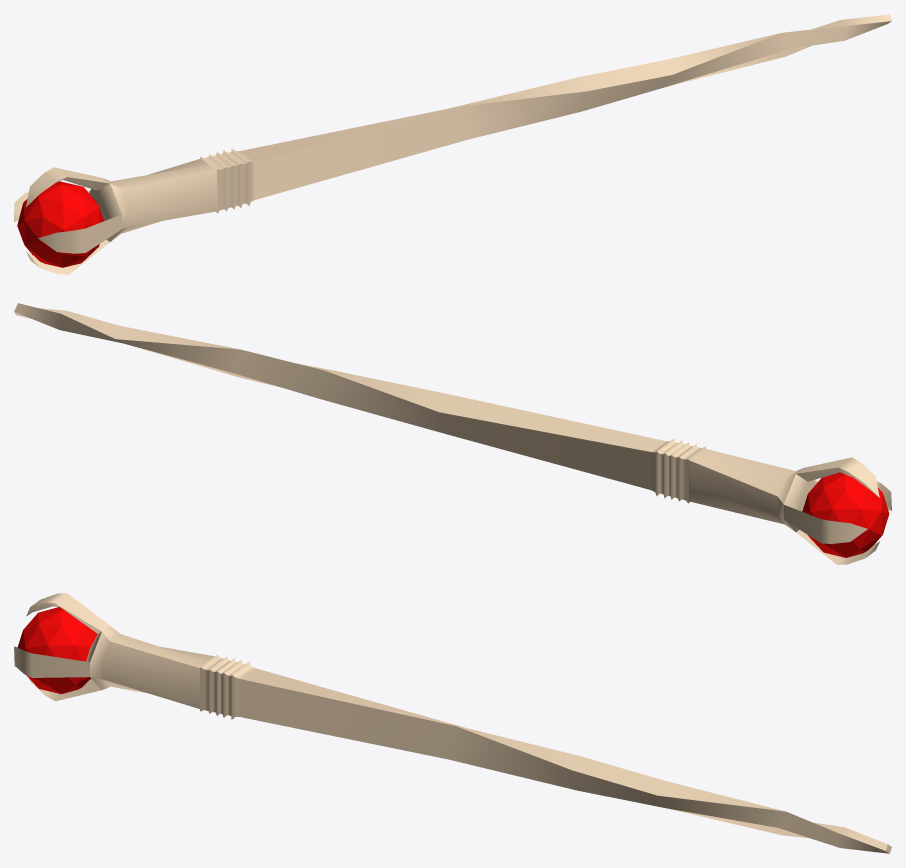
The model's file is wandcursorv1.fbx.
The picture shows the model from 3 angles, top to bottom: view 1: azimuth 30°, elevation 25°; view 2: azimuth 150°, elevation 25°; view 3: azimuth 330°, elevation 25°; orthographic projection.
Visible parts, largest first — view 1: pCube1, pPlatonic1; view 2: pCube1, pPlatonic1; view 3: pCube1, pPlatonic1.
Boxes of the visible parts, <box> form: pCube1: <box>14,14,891,274</box>; pPlatonic1: <box>17,181,103,267</box>; pCube1: <box>14,303,891,564</box>; pPlatonic1: <box>802,472,889,557</box>; pCube1: <box>14,593,891,853</box>; pPlatonic1: <box>17,607,97,694</box>.
Bounding box in the file's own units: 113 × 12.27 × 12.08.
